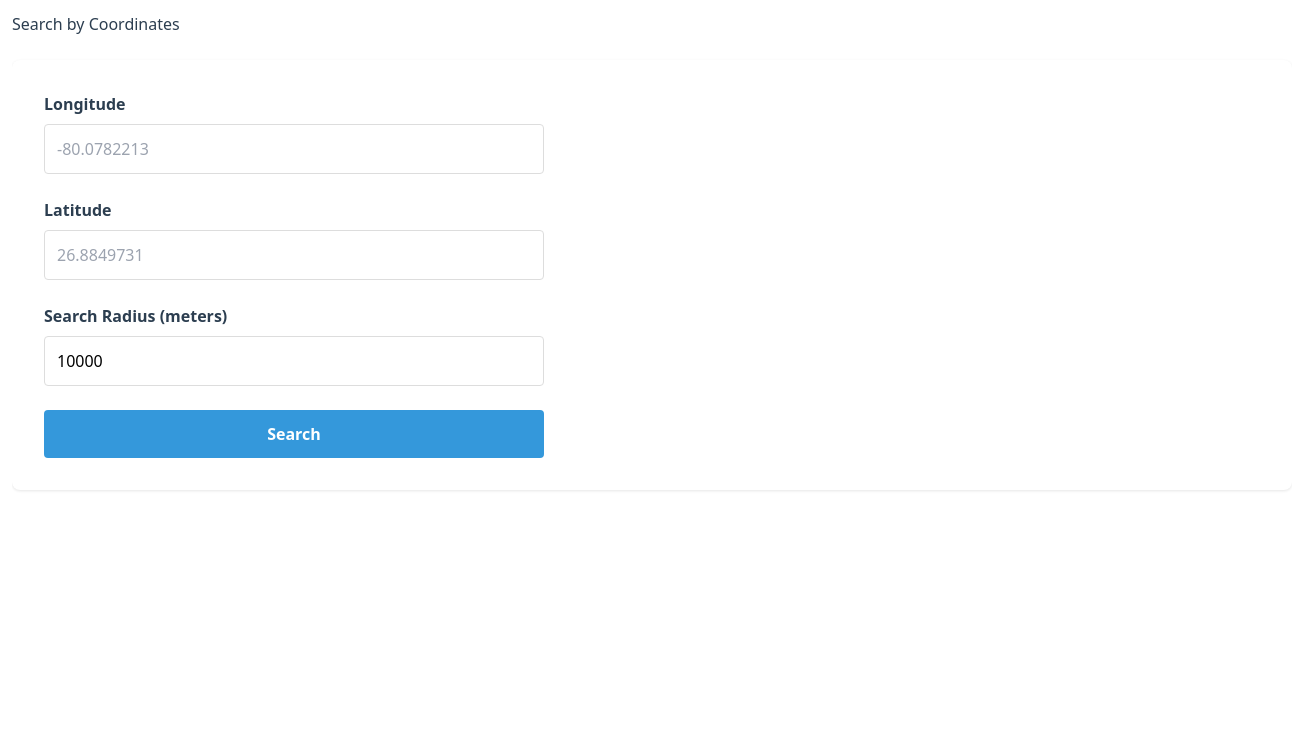
Test case: CoordinateSearch › should perform search and display results
Type "-80.078" into the field labelled "Longitude".
click(294, 149); type("-80.078")  # box [44, 124, 544, 174]
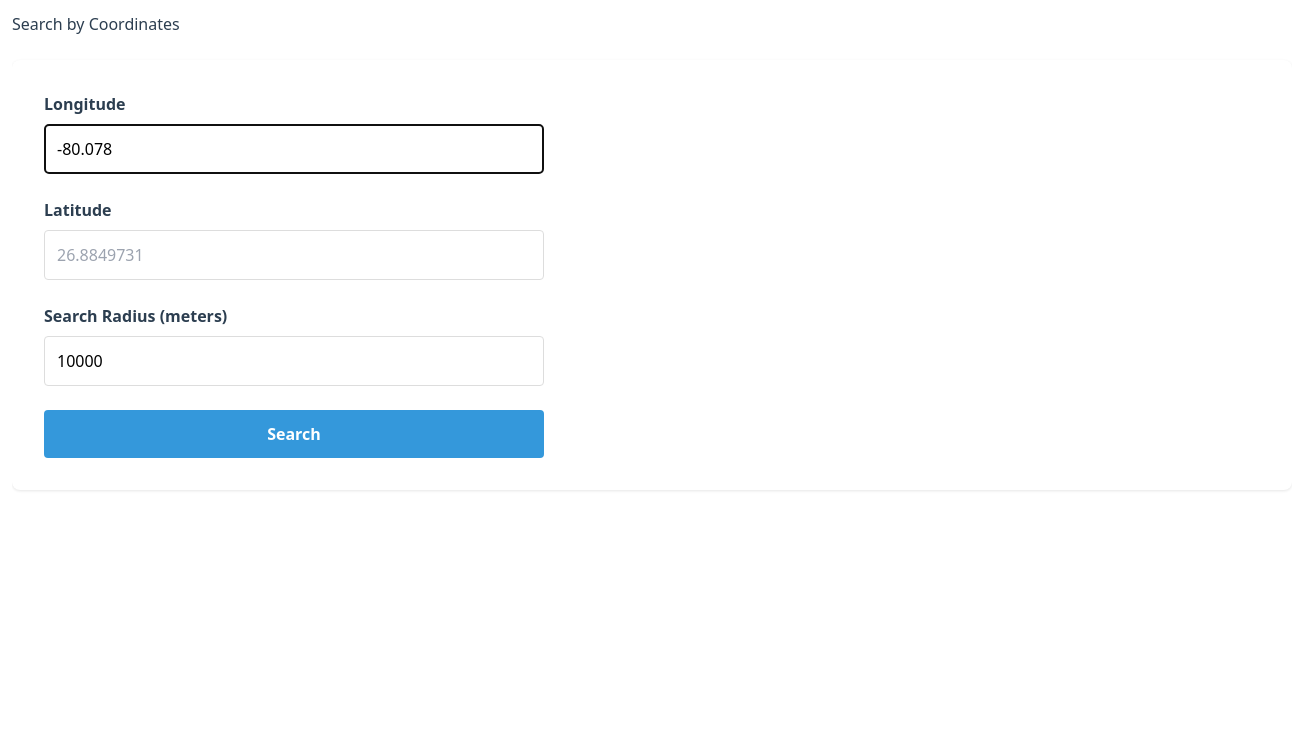
Type "26.885" into the field labelled "Latitude".
click(294, 255); type("26.885")  # box [44, 230, 544, 280]
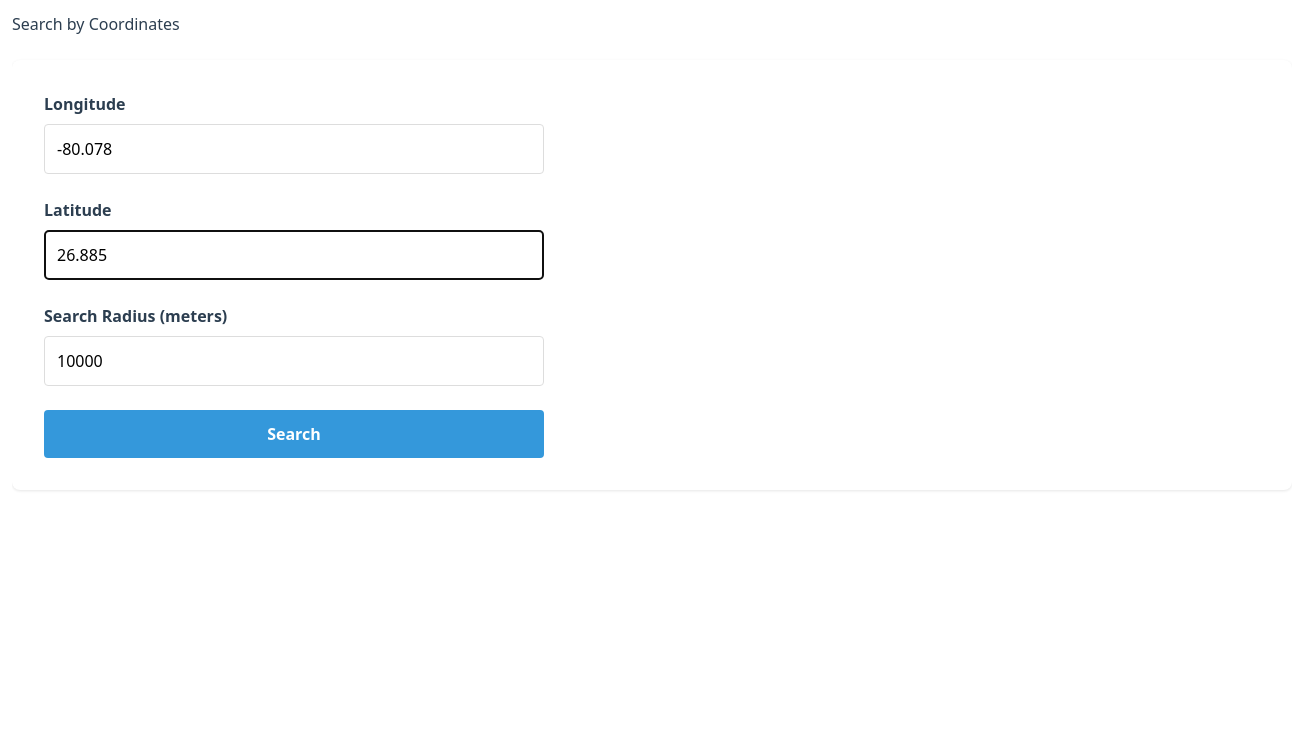
Type "5000" into the field labelled "Search Radius (meters)".
click(294, 361); type("5000")  # box [44, 336, 544, 386]
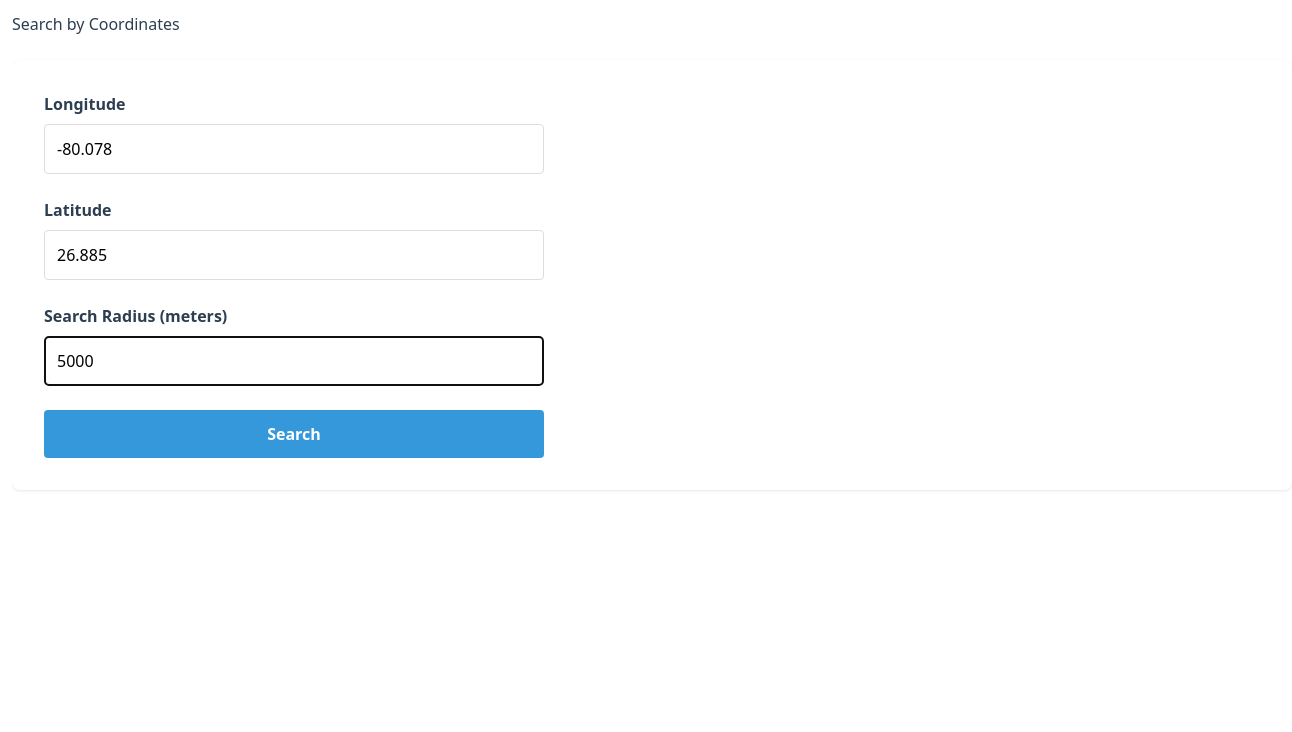
Click the button "Search".
click(294, 434)  # box [44, 410, 544, 458]
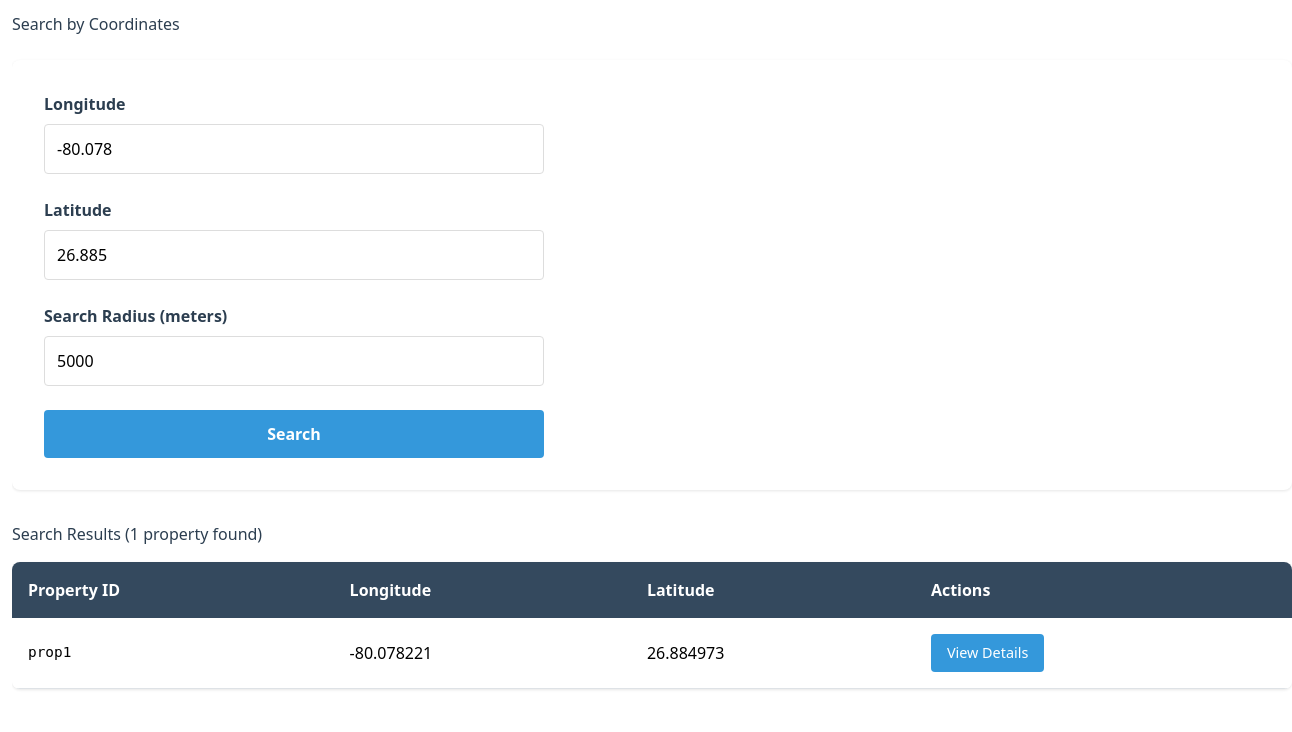
Now the heading "Search Results (1 property found)" is shown, box [12, 523, 262, 545]
Now the text "prop1" is shown, box [12, 618, 334, 688]
